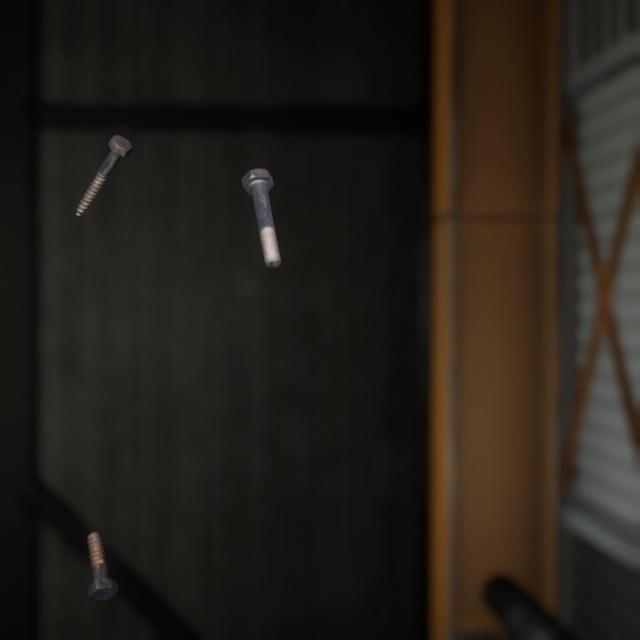bolt: (70, 116, 136, 206), (237, 148, 285, 257), (82, 505, 122, 583)
